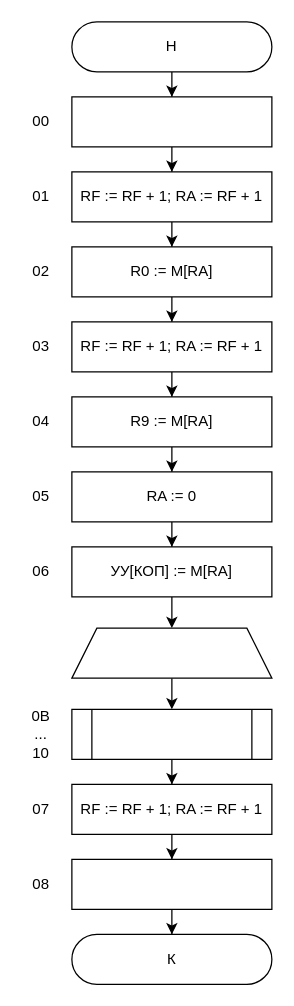
Image size: 294x1006. Some labels were removed from this diagram. Each missing label, with the centre of its shape:
"RF := 0" goes at (x=171, y=121).
"Дешифрация КОП" goes at (x=171, y=652).
"М[RA] := R8" goes at (x=171, y=883).
"МП" goes at (x=171, y=733).
